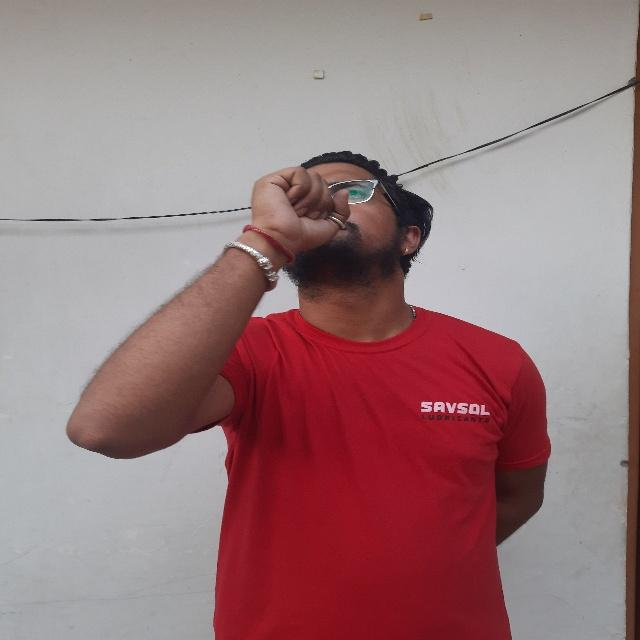Fist Mouth: (229, 132, 434, 329)
